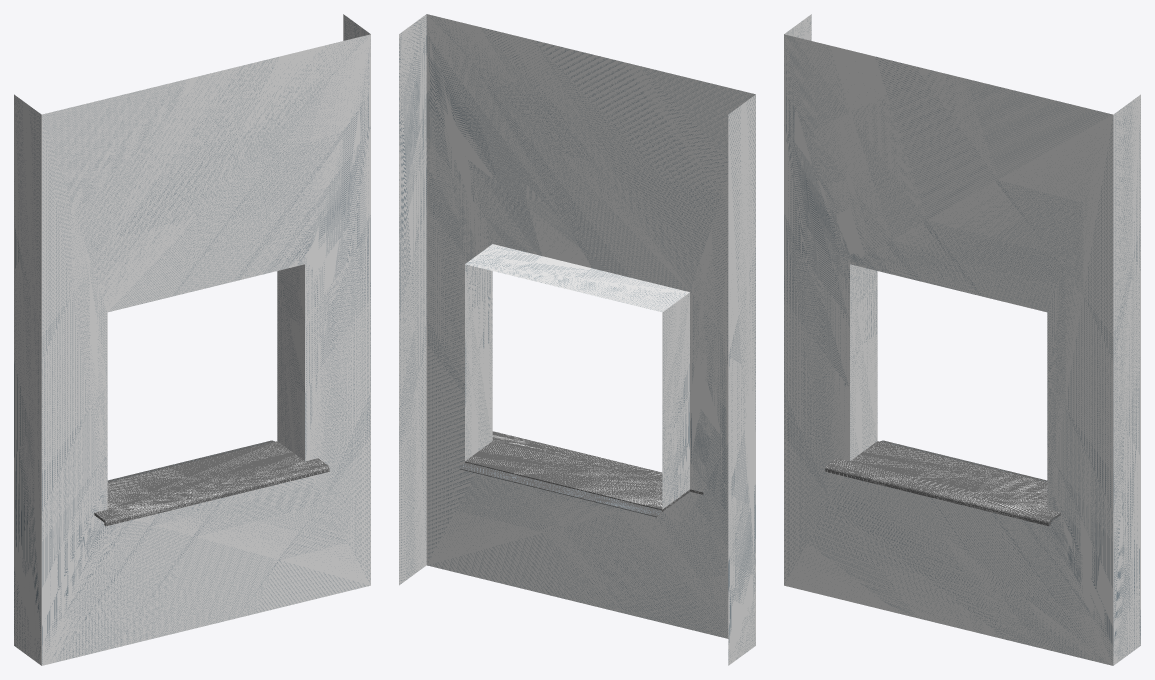
The model's file is WindowBlock_os_[250x400]_150x143x[100].dae.
The picture shows the model from 3 angles, left to right: view 1: azimuth 30°, elevation 25°; view 2: azimuth 150°, elevation 25°; view 3: azimuth 330°, elevation 25°; orthographic projection.
Visible parts, largest first — view 1: group_2 (×2), group_1; view 2: group_2 (×2), group_1 (×2); view 3: group_2 (×2), group_1.
Part boxes in pixels (<box>): group_2 (×2): <box>14,14,370,665</box>; group_1: <box>94,441,329,526</box>; group_2 (×2): <box>399,14,755,665</box>; group_1 (×2): <box>459,431,703,517</box>; group_2 (×2): <box>784,14,1140,665</box>; group_1: <box>825,441,1060,526</box>.
Size of the model in its own units: 98.43 by 23.03 by 157.
